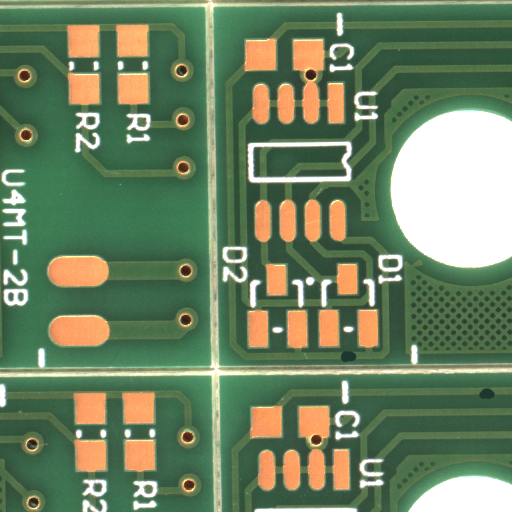Mouse_bite: (348, 356, 365, 369), (487, 393, 504, 406)
